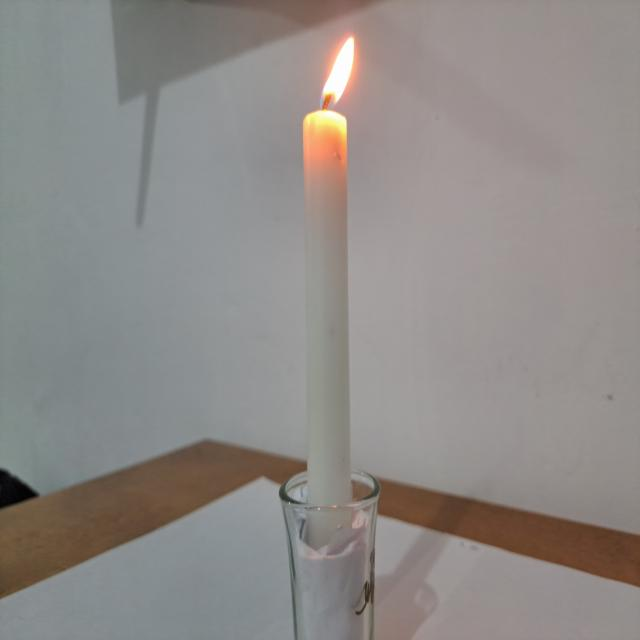candle: (276, 27, 383, 640)
